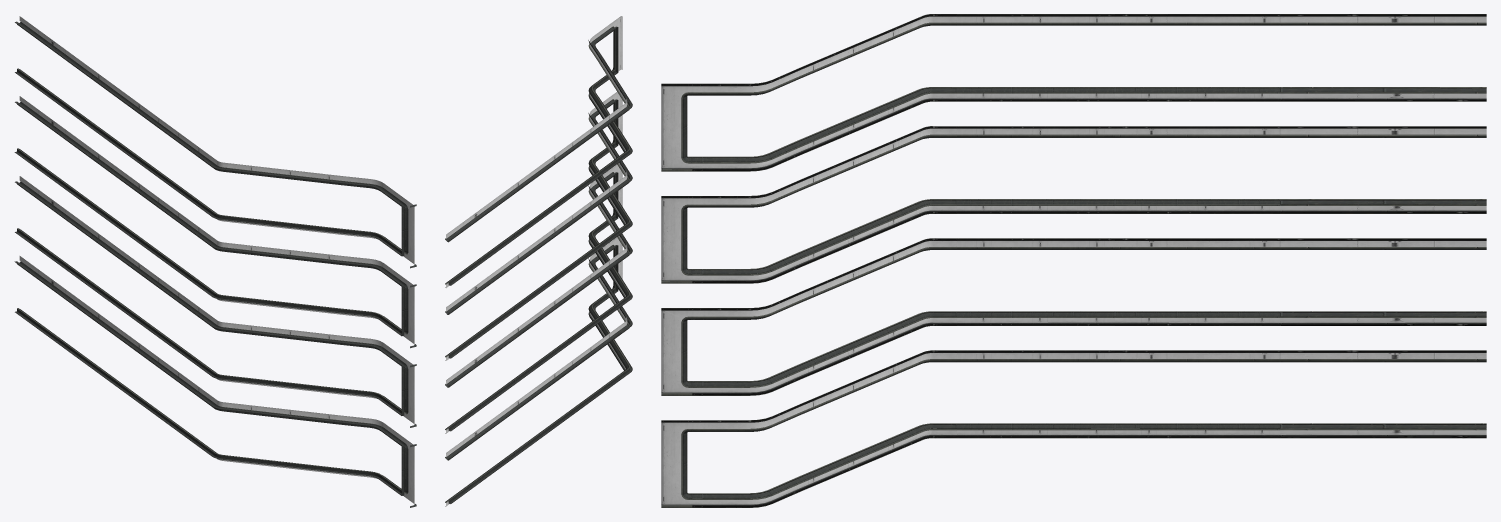
Rendered from RearlFAC_Win04_Low.FBX.
The picture shows the model from 3 angles, left to right: view 1: azimuth 30°, elevation 25°; view 2: azimuth 150°, elevation 25°; view 3: azimuth 270°, elevation 25°; orthographic projection. The views are drawn at different scales.
Visible parts, largest first — view 1: RearlFAC_Win04_Low; view 2: RearlFAC_Win04_Low; view 3: RearlFAC_Win04_Low.
Part boxes in pixels (box(x1,y1,x2,y2)): RearlFAC_Win04_Low: box(14, 16, 416, 507); RearlFAC_Win04_Low: box(445, 16, 632, 506); RearlFAC_Win04_Low: box(661, 14, 1486, 507).
Bounding box in the file's own units: 8.5 × 22.7 × 40.02.
